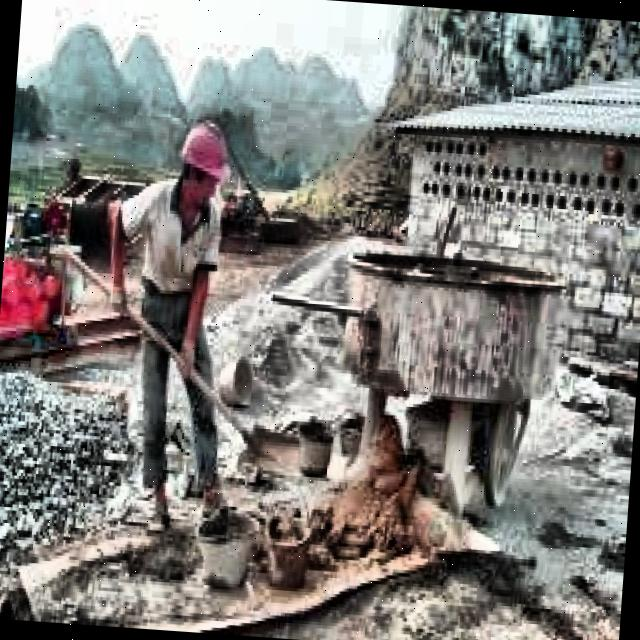helmet: (174, 114, 232, 223)
